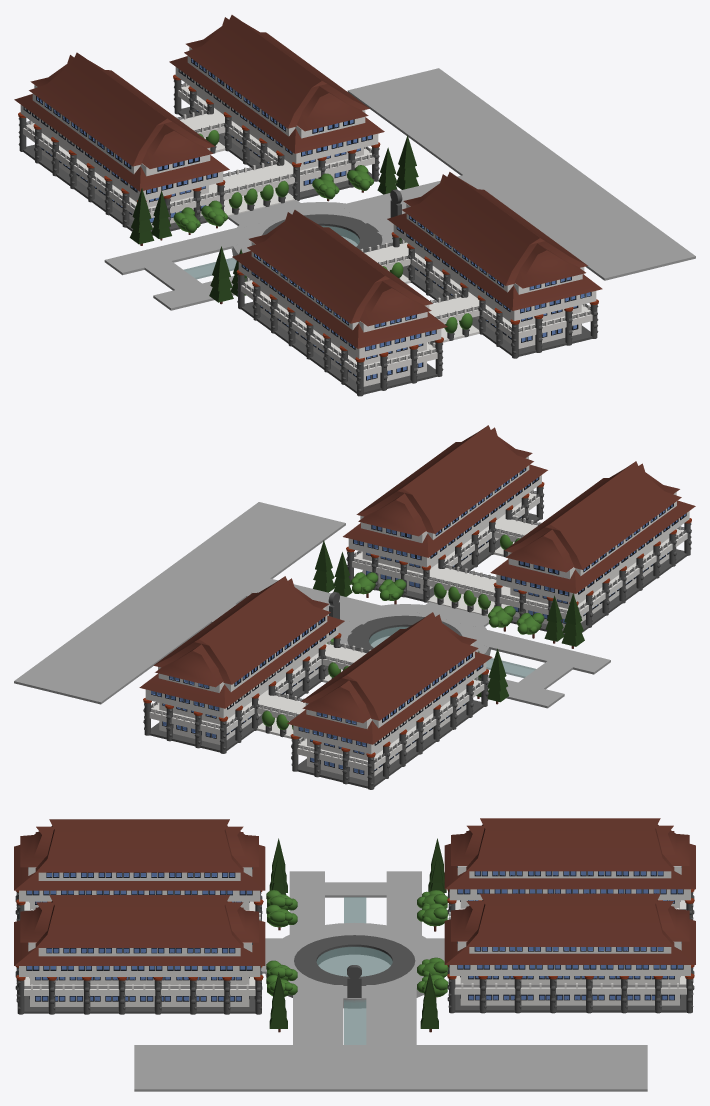
Rendered from ITB.fbx.
3 views of the same model, one above another, from view 1: azimuth 30°, elevation 25°; view 2: azimuth 150°, elevation 25°; view 3: azimuth 270°, elevation 25° (orthographic). The views are drawn at different scales.
Parts seen in each view (by area): view 1: aspal, labtek_1_3, labtek_3, labtek, labtek_1, pohon_segitiga, jembatan, intel, pohon, jembatan_1_2, jembatan_1, jembatan_2; view 2: aspal, labtek, labtek_1, labtek_1_3, labtek_3, pohon_segitiga, jembatan_2, pohon, intel, jembatan_1, jembatan_1_2, jembatan; view 3: aspal, labtek_1, labtek_3, labtek_1_3, labtek, intel, pohon, pohon_segitiga, tugu_teman.
Boxes of the visible parts, x1,y1,x2,y2 form: aspal: (104, 68, 695, 310); labtek_1_3: (232, 210, 447, 396); labtek_3: (387, 172, 602, 358); labtek: (14, 52, 229, 235); labtek_1: (169, 15, 384, 200); pohon_segitiga: (129, 135, 418, 304); jembatan: (209, 161, 294, 216); intel: (183, 214, 382, 279); pohon: (173, 165, 405, 243); jembatan_1_2: (429, 293, 479, 344); jembatan_1: (175, 110, 225, 153); jembatan_2: (360, 242, 410, 283); aspal: (14, 502, 610, 708); labtek: (287, 612, 492, 789); labtek_1: (139, 576, 344, 753); labtek_1_3: (490, 461, 695, 634); labtek_3: (343, 425, 547, 602); pohon_segitiga: (313, 540, 584, 704); jembatan_2: (427, 564, 509, 616); pohon: (326, 572, 544, 644); intel: (347, 615, 535, 677); jembatan_1: (257, 692, 305, 740); jembatan_1_2: (494, 516, 541, 557); jembatan: (322, 643, 370, 682); aspal: (134, 871, 647, 1091); labtek_1: (444, 893, 695, 1013); labtek_3: (14, 895, 265, 1014); labtek_1_3: (14, 819, 265, 920); labtek: (444, 818, 695, 919); intel: (294, 897, 415, 1044); pohon: (266, 890, 448, 999); pohon_segitiga: (269, 838, 446, 1032); tugu_teman: (347, 965, 361, 997).
Size of what is drawn, in the model's own units: 30.11 by 6.99 by 39.81.
